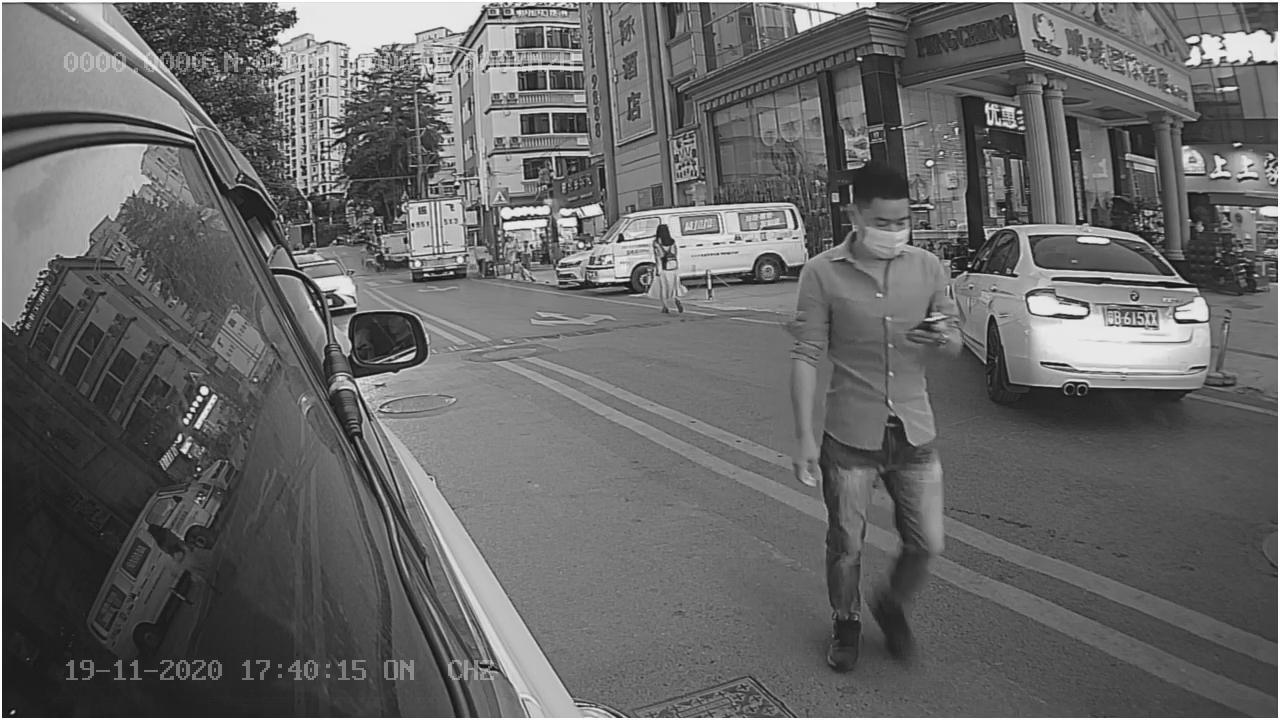person: (781, 158, 959, 672)
